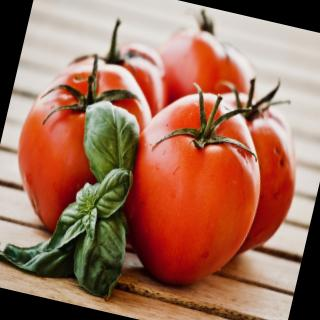Tomat: (108, 73, 282, 301)
